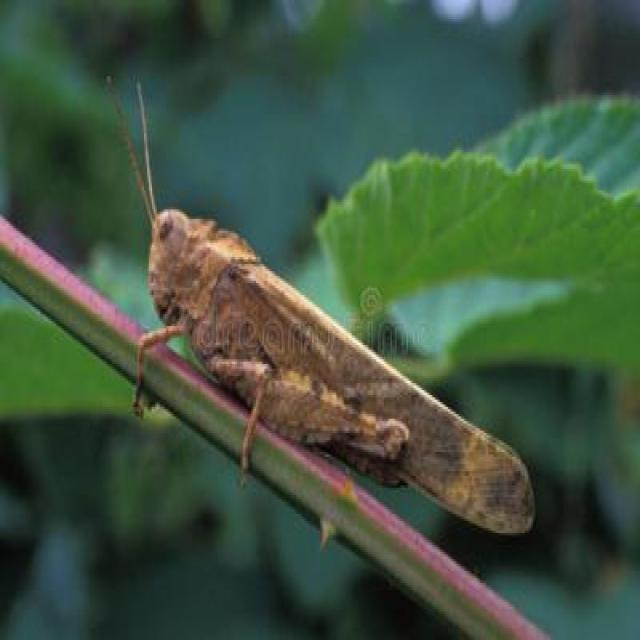antennae: (109, 78, 153, 212), (134, 78, 156, 213)
body: (150, 210, 412, 486)
insect: (104, 73, 534, 547)
legs: (242, 361, 407, 480), (212, 357, 268, 490), (128, 319, 188, 417)
mouthpart: (146, 276, 180, 322)
wings: (252, 268, 532, 526)
